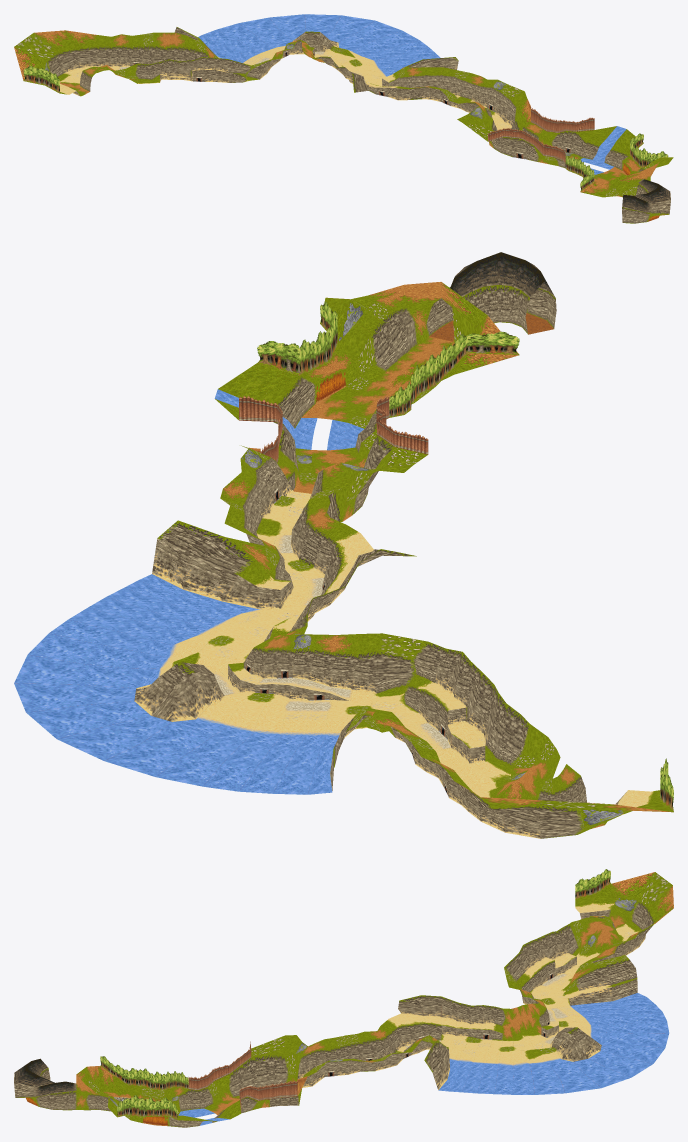
File: Gaule2_fix.obj
3 views of the same model, one above another, from view 1: azimuth 30°, elevation 25°; view 2: azimuth 150°, elevation 25°; view 3: azimuth 270°, elevation 25° (orthographic). The views are drawn at different scales.
Parts seen in each view (by area): view 1: modell; view 2: modell; view 3: modell.
Boxes of the visible parts, bbox=[...] form: modell: bbox=[14, 14, 673, 223]; modell: bbox=[14, 252, 673, 838]; modell: bbox=[14, 869, 673, 1127].
Bounding box in the file's own units: 8386 × 1026 × 10638.
Materials: 1 (1 with a texture image).
